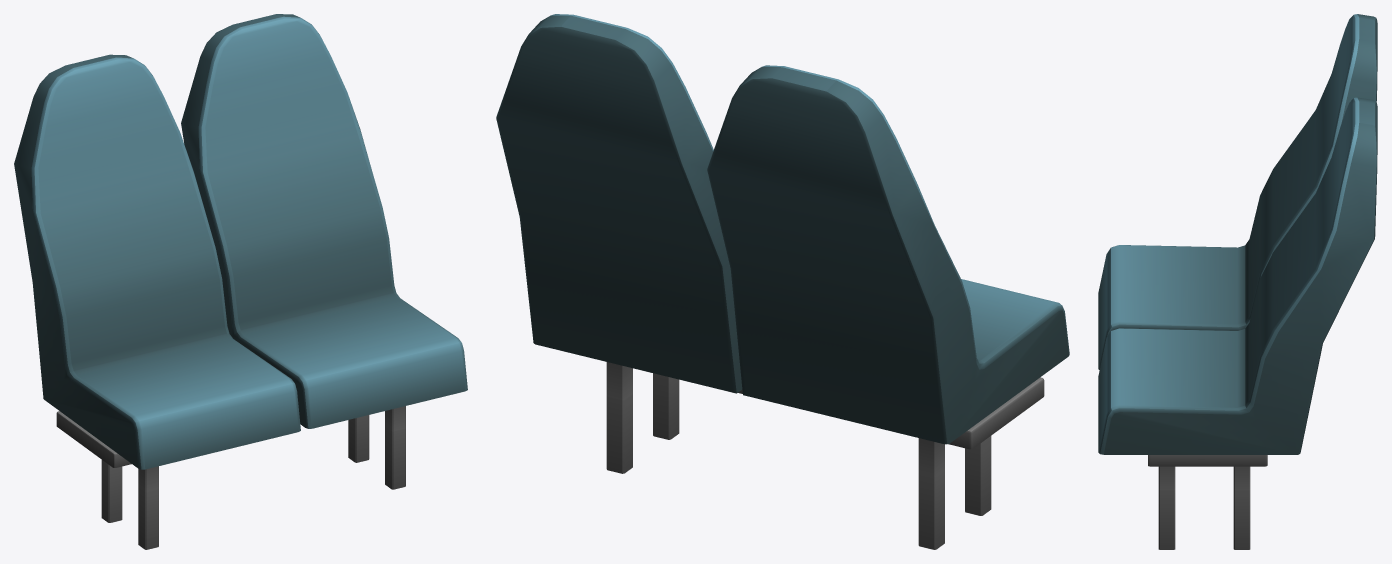
The model's file is bus_seats_mdl.fbx.
The picture shows the model from 3 angles, left to right: view 1: azimuth 30°, elevation 25°; view 2: azimuth 150°, elevation 25°; view 3: azimuth 270°, elevation 25°; orthographic projection. The views are drawn at different scales.
Visible parts, largest first — view 1: bus_seats_mdl; view 2: bus_seats_mdl; view 3: bus_seats_mdl.
Part boxes in pixels (bbox=[...]): bus_seats_mdl: bbox=[14, 14, 467, 549]; bus_seats_mdl: bbox=[496, 14, 1069, 549]; bus_seats_mdl: bbox=[1098, 14, 1377, 549].
Size of the model in its own units: 93.48 by 109 by 66.43.
